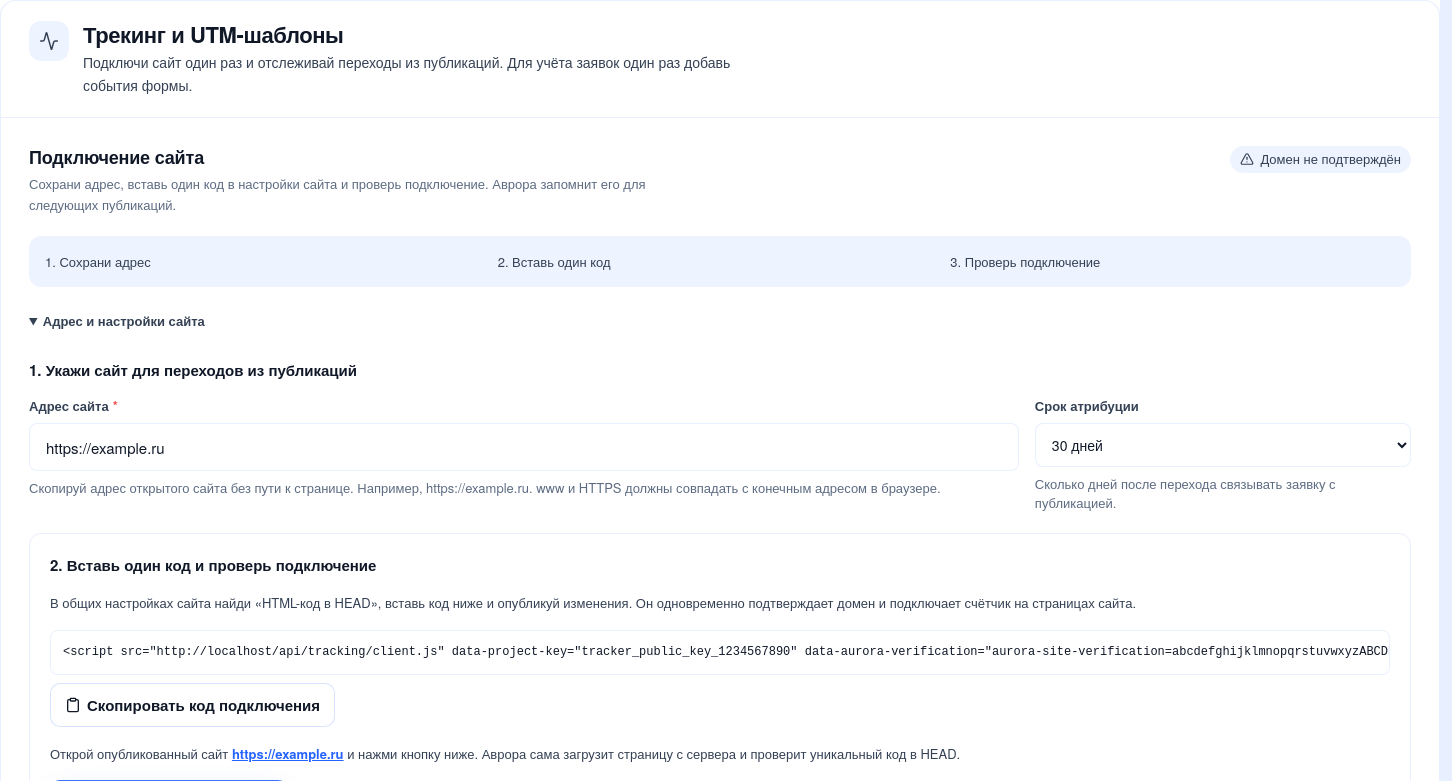
it: tracking setup journey › reports clipboard failures without claiming the copy succeeded
Click the button "Скопировать код подключения". click: {"x": 193, "y": 705}
box: [50,683,335,727]
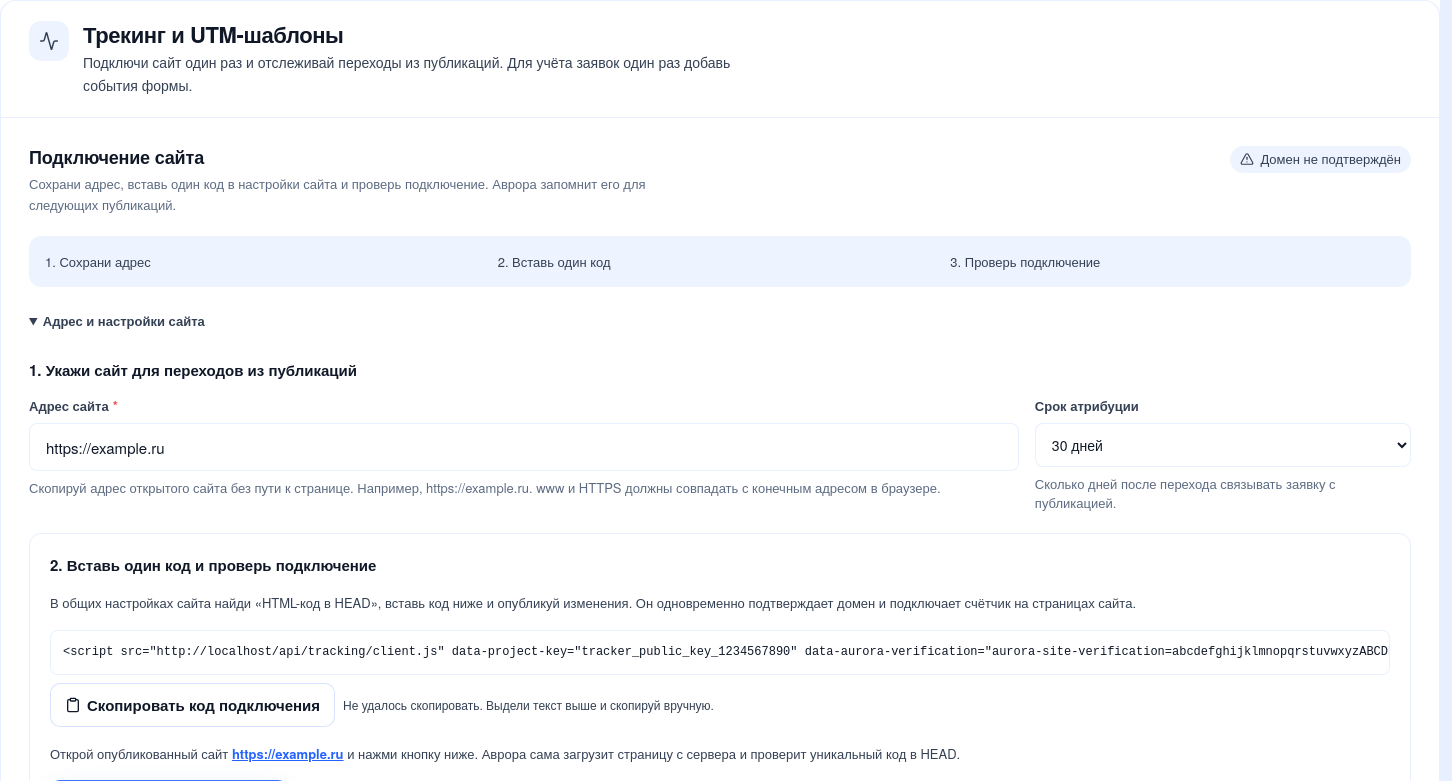
expect the text "Не удалось скопировать. Выдели текст выше и скопируй вручную." is shown: met, box [343,696,714,714]
